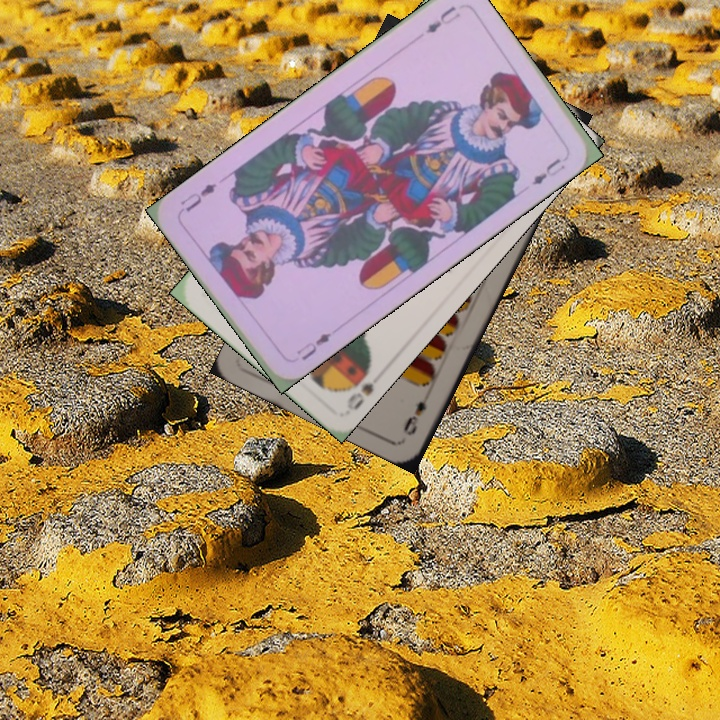E9: (399, 397, 430, 439)
EU: (292, 328, 334, 364), (422, 1, 463, 36)
SO: (339, 357, 376, 414)
